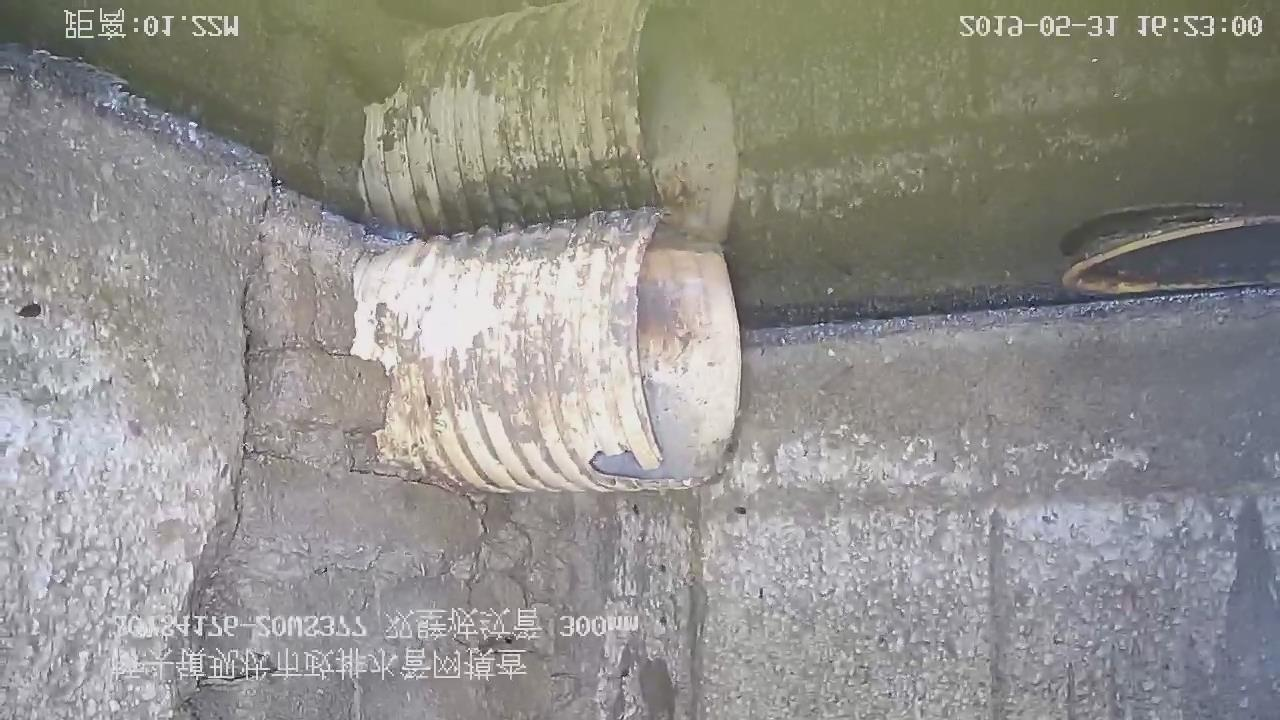ZGAJ: (349, 210, 741, 493)
